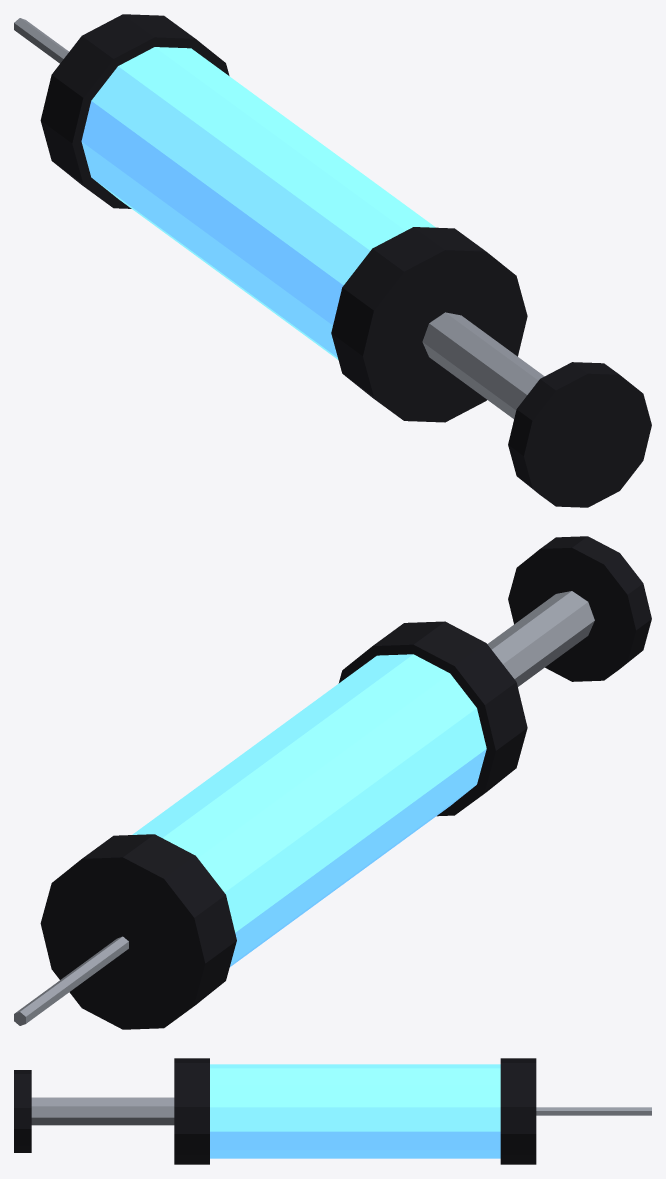
File: syringe.glb
The picture shows the model from 3 angles, top to bottom: view 1: azimuth 30°, elevation 25°; view 2: azimuth 150°, elevation 25°; view 3: azimuth 270°, elevation 25°; orthographic projection. The views are drawn at different scales.
Parts seen in each view (by area): view 1: Syringe; view 2: Syringe; view 3: Syringe.
Part boxes in pixels (x1,y1,x2,y2): Syringe: [14, 14, 651, 507]; Syringe: [14, 536, 651, 1029]; Syringe: [14, 1058, 651, 1164].
Bounding box in the file's own units: 0.036 × 0.036 × 0.215.
